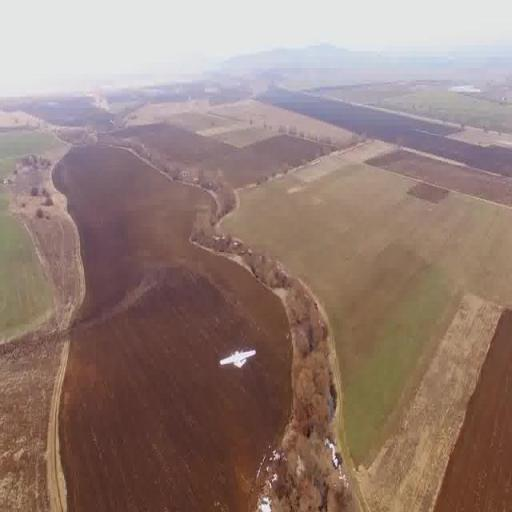uav: (218, 342, 257, 373)
